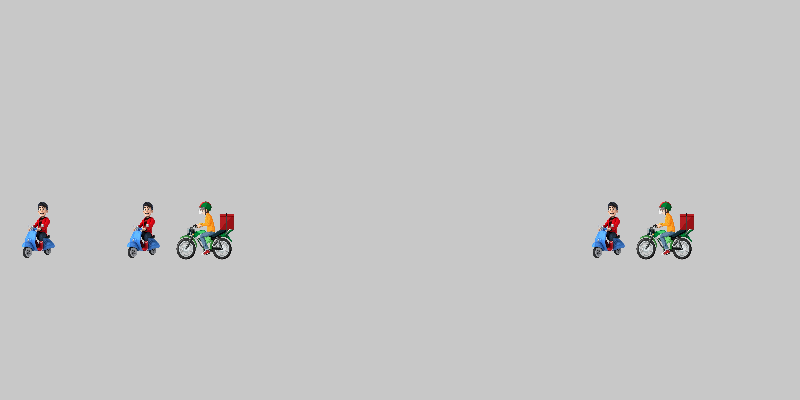helmet: (175, 200, 235, 260), (635, 200, 695, 260)
no_helmet: (10, 200, 70, 260), (115, 200, 175, 260), (580, 200, 640, 260)
